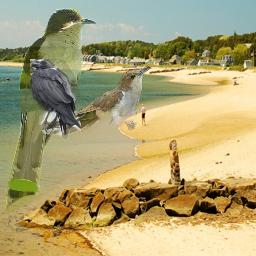Crow: (30, 59, 81, 139)
Cuckoo: (5, 8, 97, 213), (48, 66, 151, 135)
